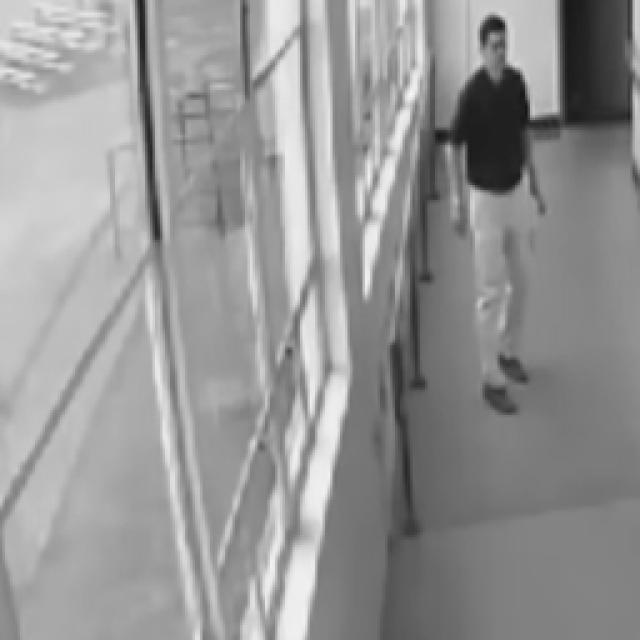Invader: (435, 12, 547, 412)
